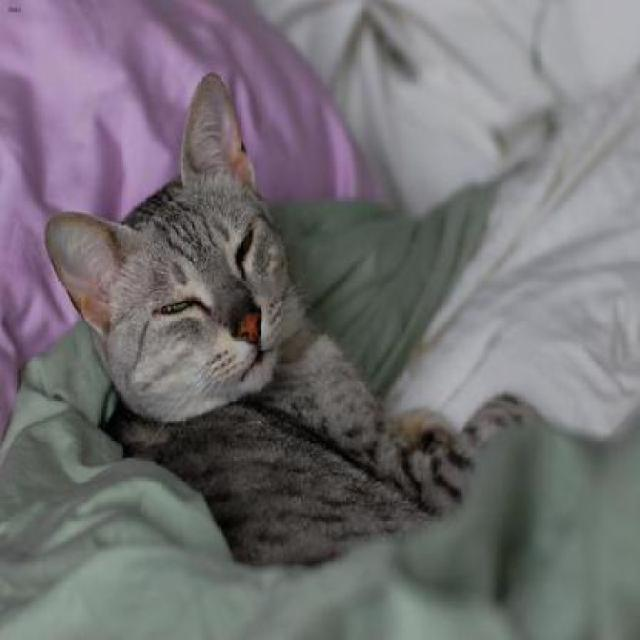cat: (47, 69, 539, 572)
